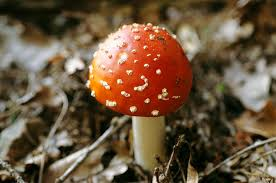Amanita muscaria: (78, 17, 198, 166)
